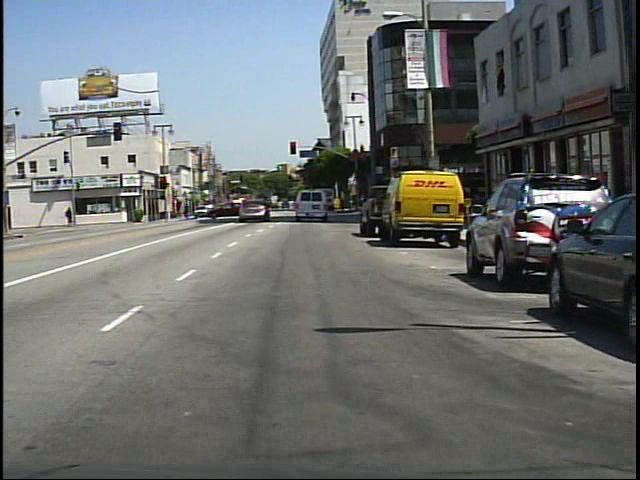person: (259, 194, 277, 225), (64, 206, 74, 226)
